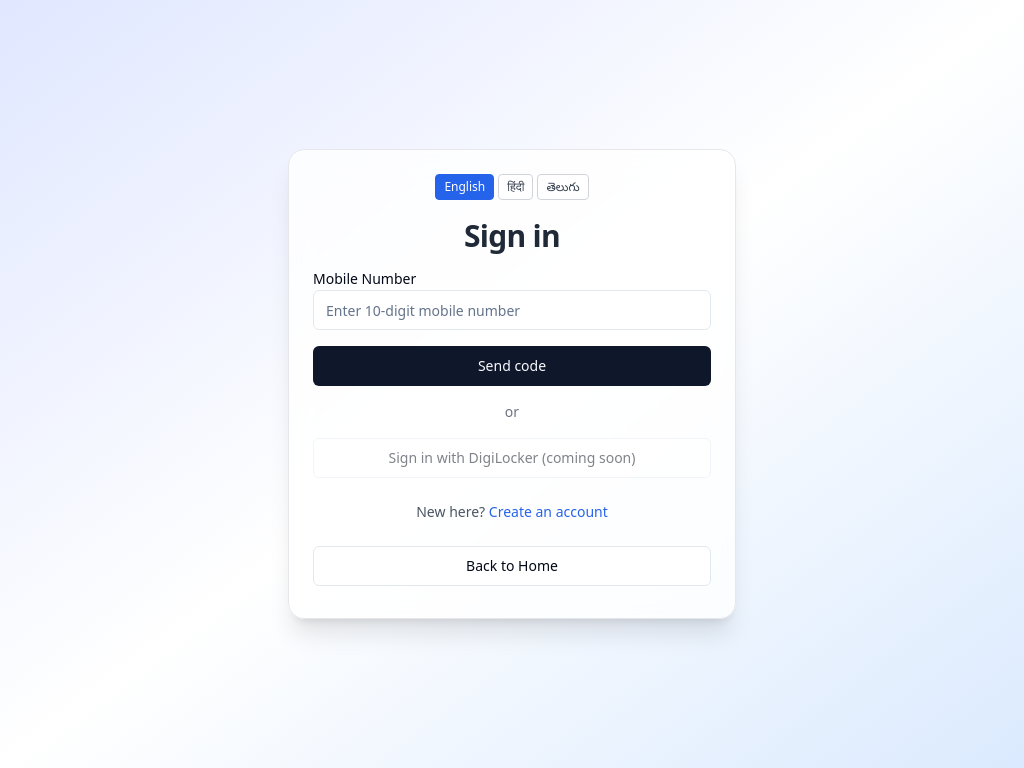
login › shows the lockout message on 429
In the field labelled "Mobile Number": (512, 310) 313,290 -> 711,330, type "9000000001"
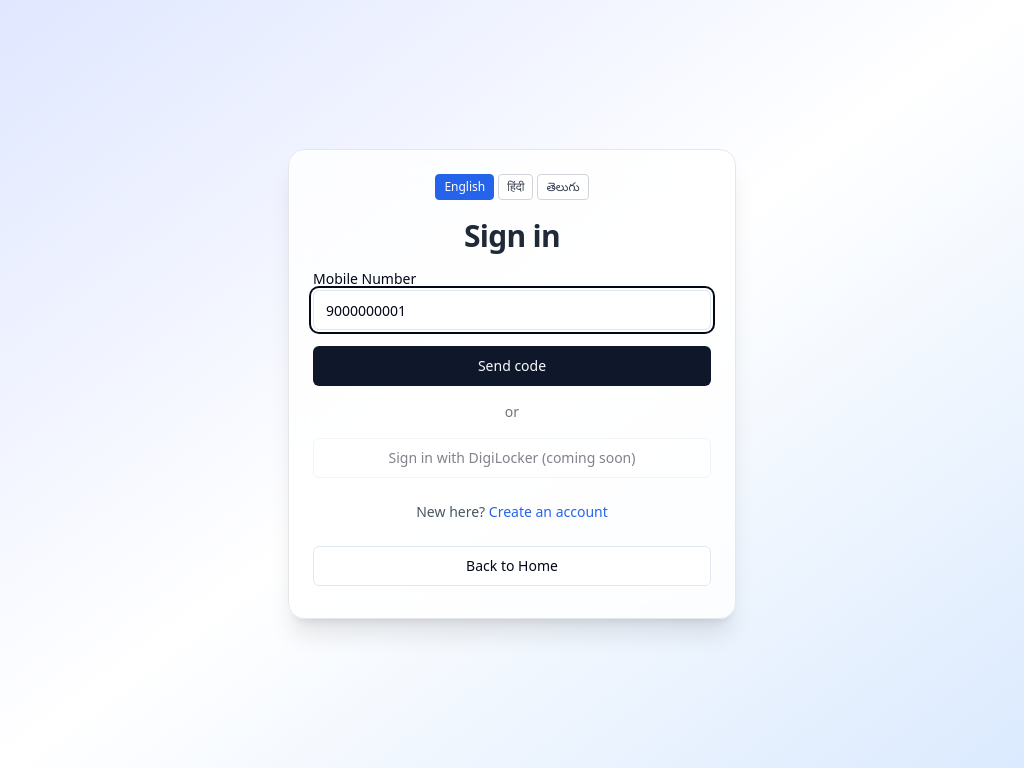
Click the button "Send code": (512, 366) 313,346 -> 711,386
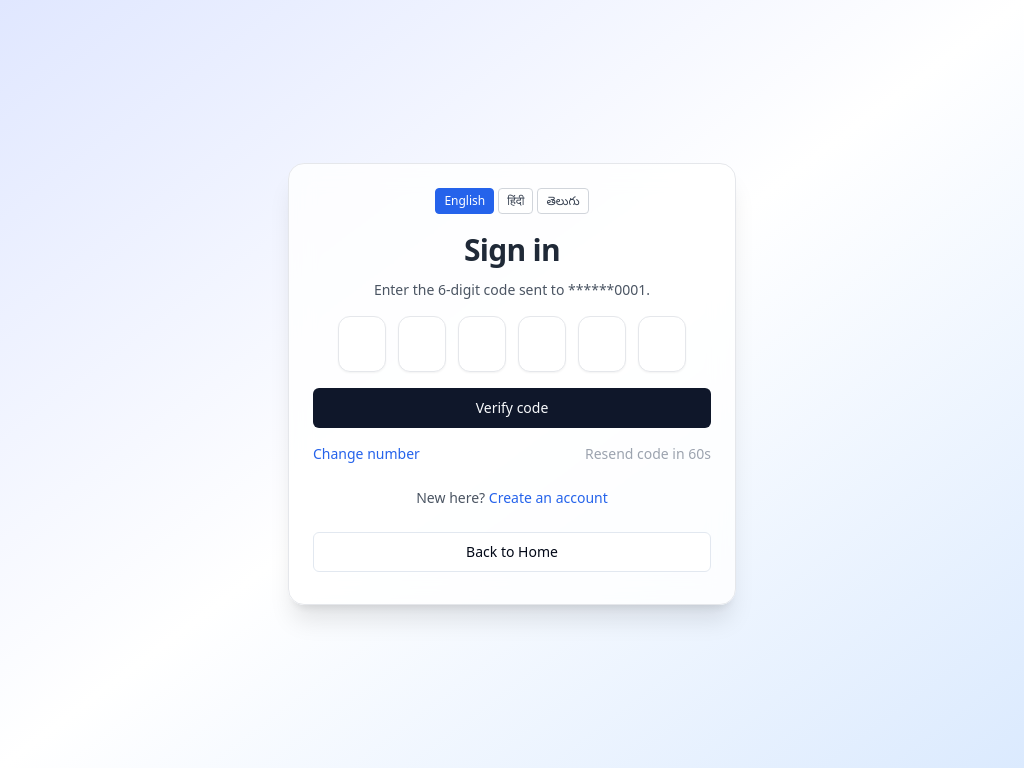
In the field named "digit": (362, 344) 338,316 -> 386,372, type "123456"
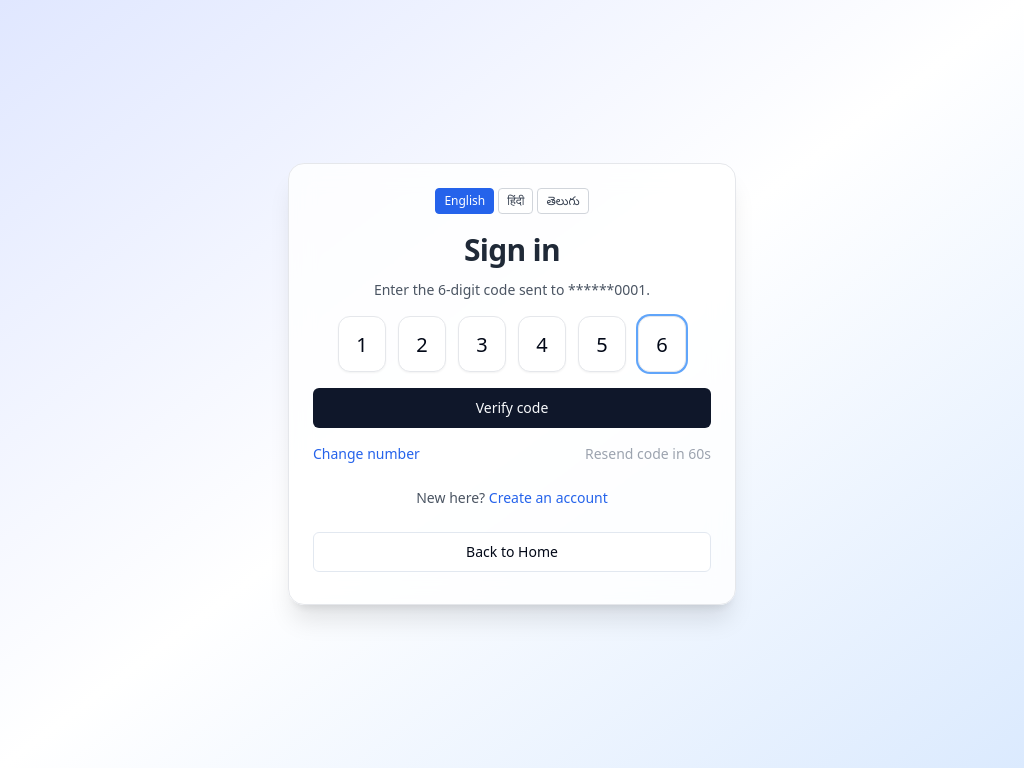
Click the button "Verify code": (512, 408) 313,388 -> 711,428
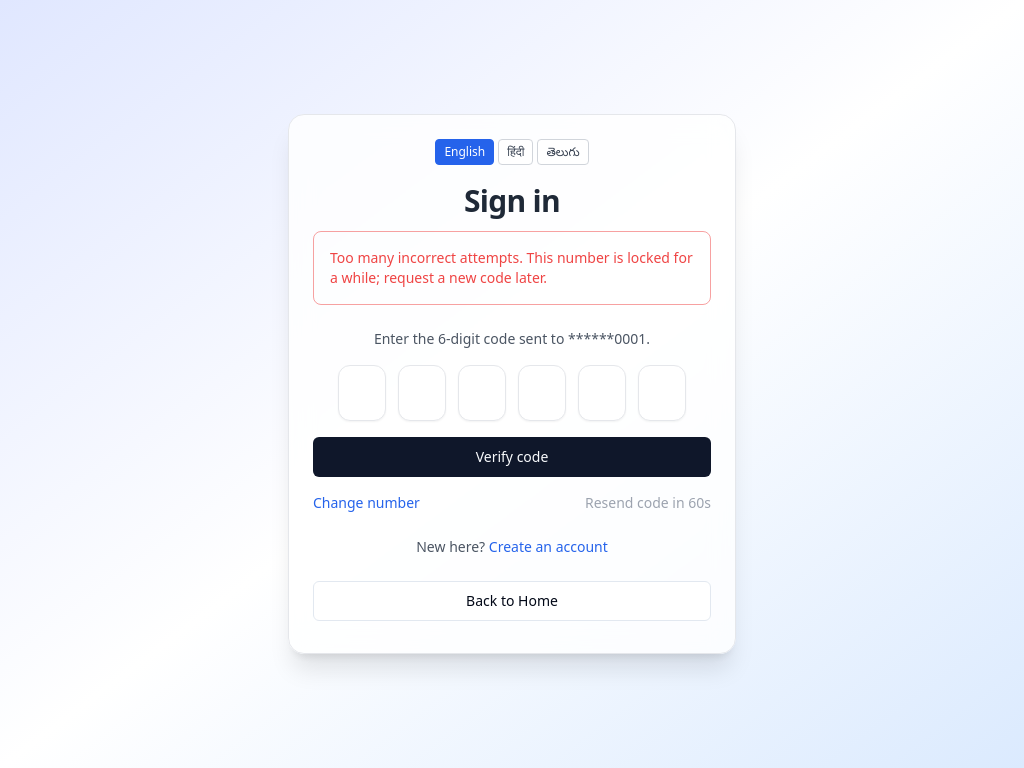
Now the message shows "locked", box 330,248 -> 693,287
